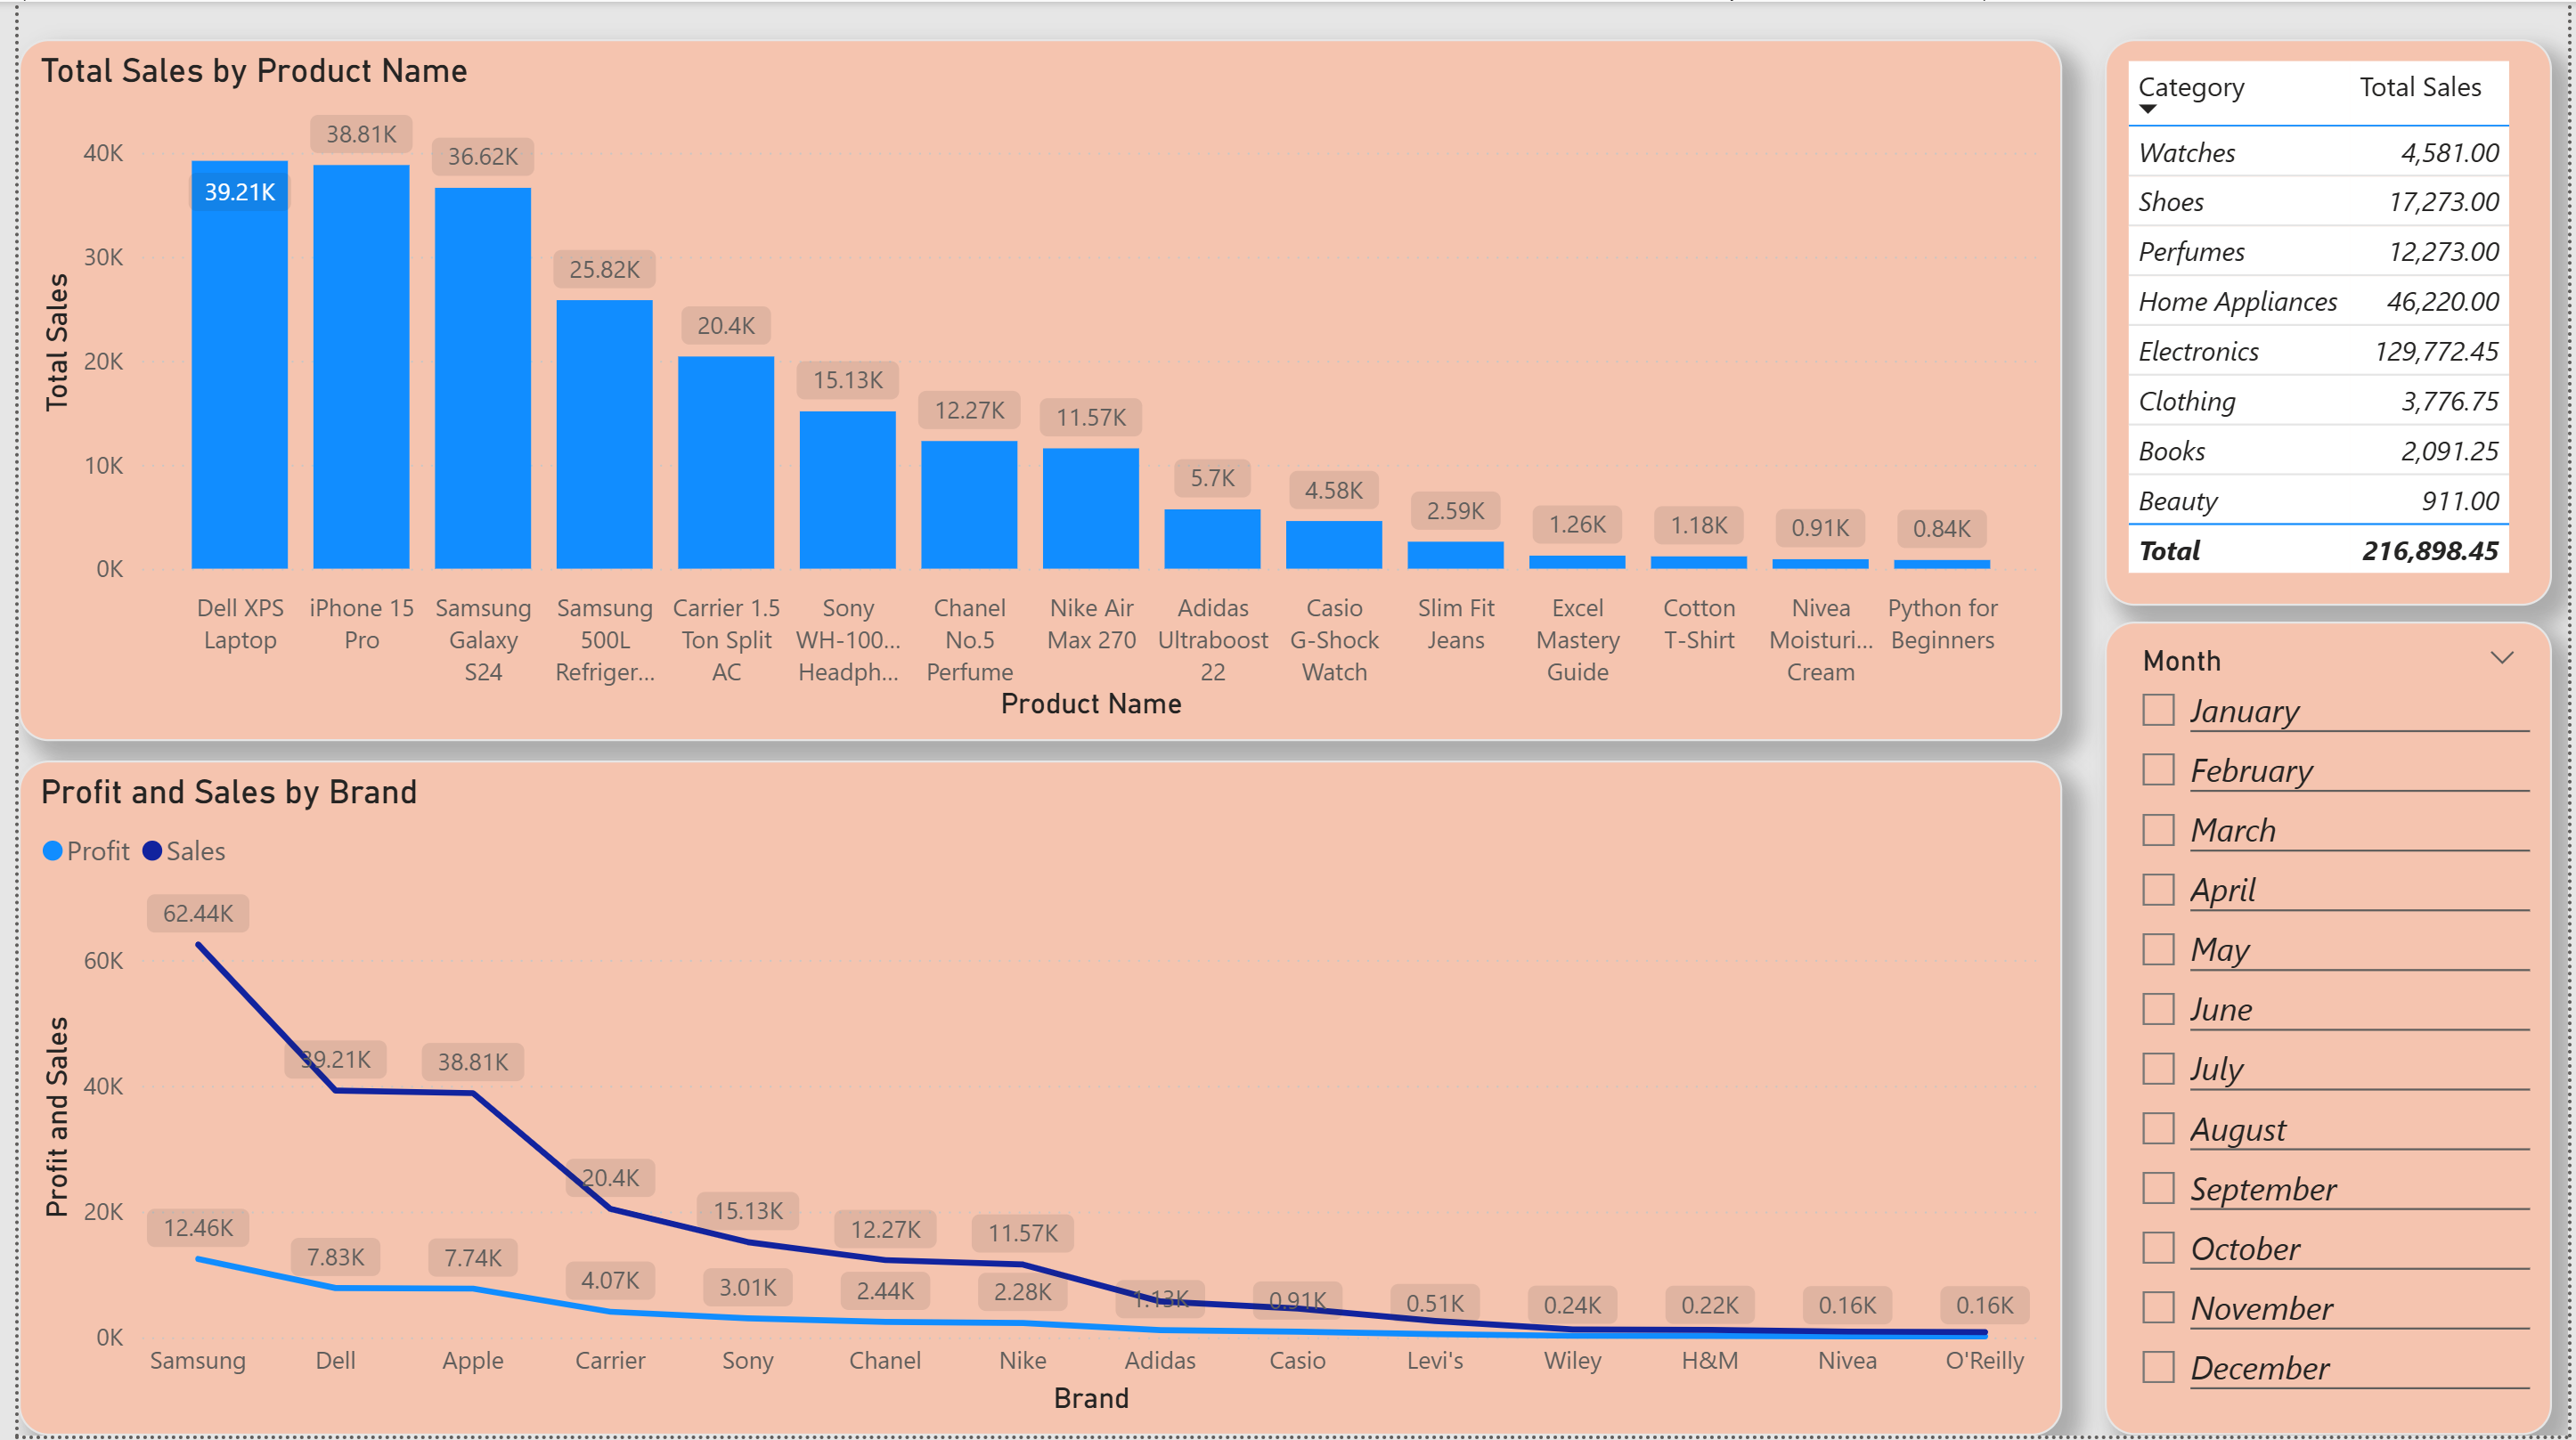

This screenshot's page, from the dashboard's own definition file:
{"tool":"powerbi","page":{"name":"Product Analysis","canvas":[1280,720],"ordinal":1},"visuals":[{"type":"columnChart","fields":{"Category":["E-Commerce Orders Dataset  —  2024 (Orders).Product Name"],"Y":["Sum(E-Commerce Orders Dataset  —  2024 (Orders).Total ($))"]},"box":[0,18.8,1025.9,352.4],"z":0},{"type":"lineChart","fields":{"Category":["E-Commerce Orders Dataset  —  2024 (Orders).Brand"],"Y":["Sum(E-Commerce Orders Dataset  —  2024 (Orders).Profit ($))","Sum(E-Commerce Orders Dataset  —  2024 (Orders).Total ($))"]},"box":[0,381,1025.9,339],"z":1000},{"type":"tableEx","fields":{"Values":["E-Commerce Orders Dataset  —  2024 (Orders).Category","Sum(E-Commerce Orders Dataset  —  2024 (Orders).Total ($))"]},"box":[1047.4,18.8,224.5,284.4],"z":2000},{"type":"slicer","fields":{"Values":["E-Commerce Orders Dataset  —  2024 (Orders).Clean date.Variation.Date Hierarchy.Month"]},"box":[1047.4,311.3,224.5,408.7],"z":3000}]}

Visuals, with their boxes in screenshot pixels (x1, y1, x2, y2), scaled from the page's 1280x720 canvas onto the 2576x1440 screenshot:
columnChart - E-Commerce Orders Dataset  —  2024 (Orders).Product Name x Sum(E-Commerce Orders Dataset  —  2024 (Orders).Total ($)): l=0, t=37, r=2065, b=743
lineChart - E-Commerce Orders Dataset  —  2024 (Orders).Brand x Sum(E-Commerce Orders Dataset  —  2024 (Orders).Profit ($)): l=0, t=762, r=2065, b=1439
tableEx - E-Commerce Orders Dataset  —  2024 (Orders).Category x Sum(E-Commerce Orders Dataset  —  2024 (Orders).Total ($)): l=2107, t=37, r=2560, b=606
slicer - E-Commerce Orders Dataset  —  2024 (Orders).Clean date.Variation.Date Hierarchy.Month: l=2107, t=622, r=2560, b=1439
